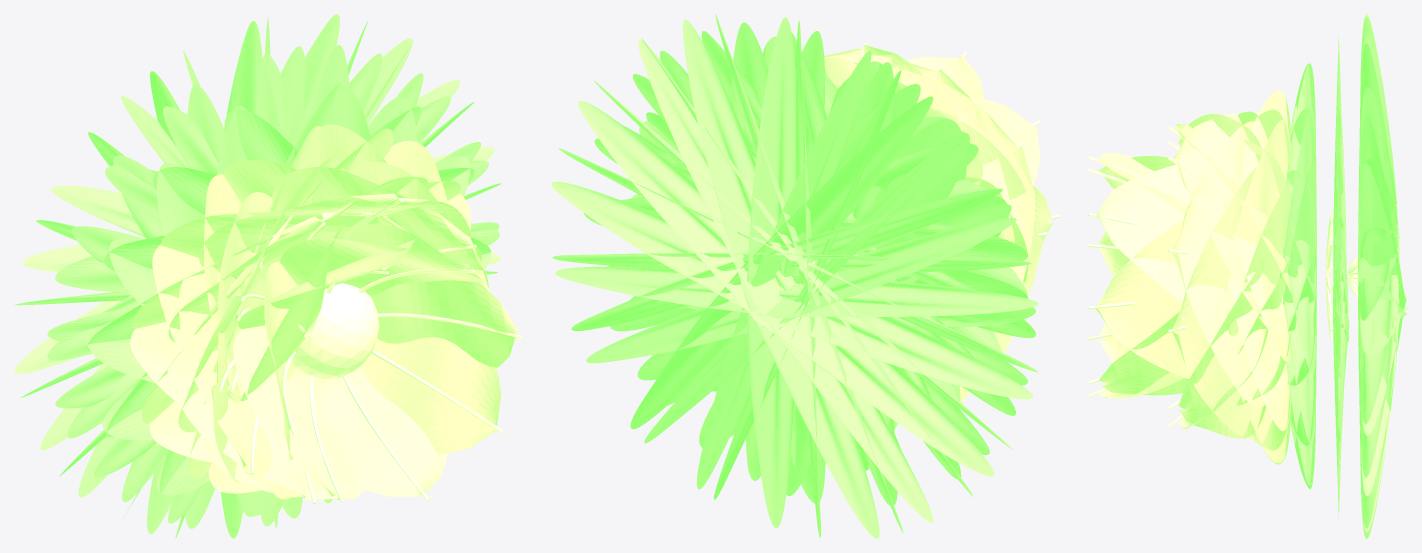
File: lettuce.glb
3 views of the same model, side by side, from view 1: azimuth 30°, elevation 25°; view 2: azimuth 150°, elevation 25°; view 3: azimuth 270°, elevation 25° (orthographic). The views are drawn at different scales.
Parts seen in each view (by area): view 1: world; view 2: world; view 3: world.
Part boxes in pixels (bbox=[...]): world: bbox=[14, 14, 522, 538]; world: bbox=[551, 14, 1059, 538]; world: bbox=[1088, 14, 1407, 538].
Bounding box in the file's own units: 2.87 × 2.89 × 1.76.
